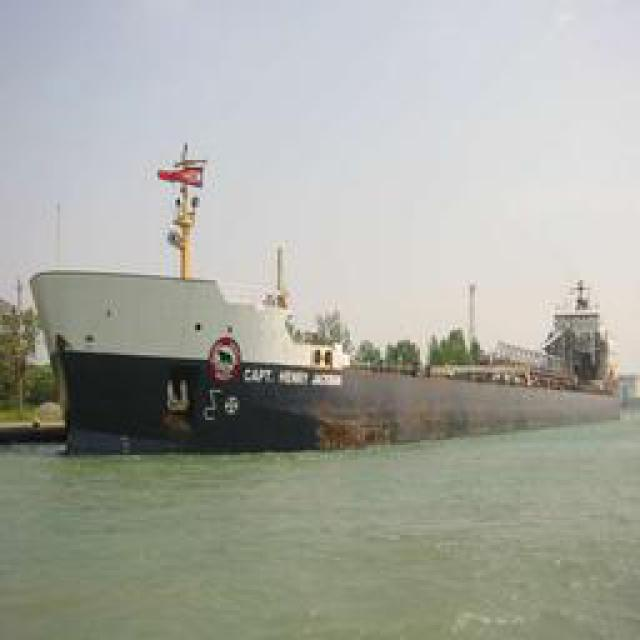Ship: (28, 143, 640, 464)
